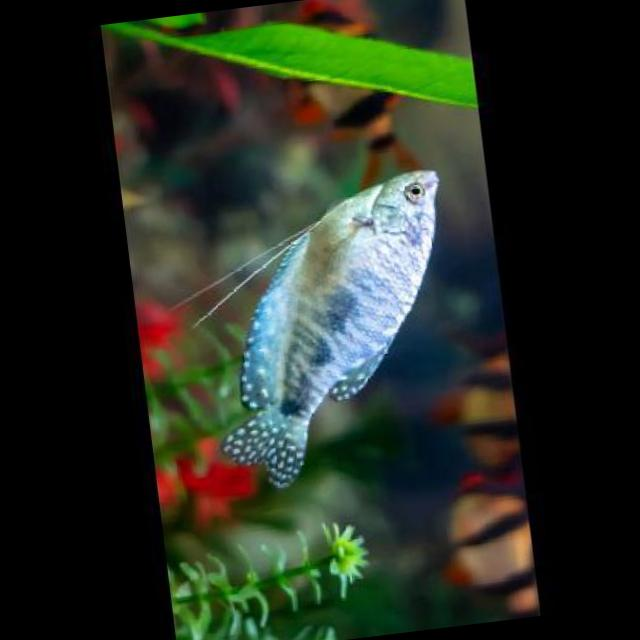Gourami: (192, 162, 481, 496)
